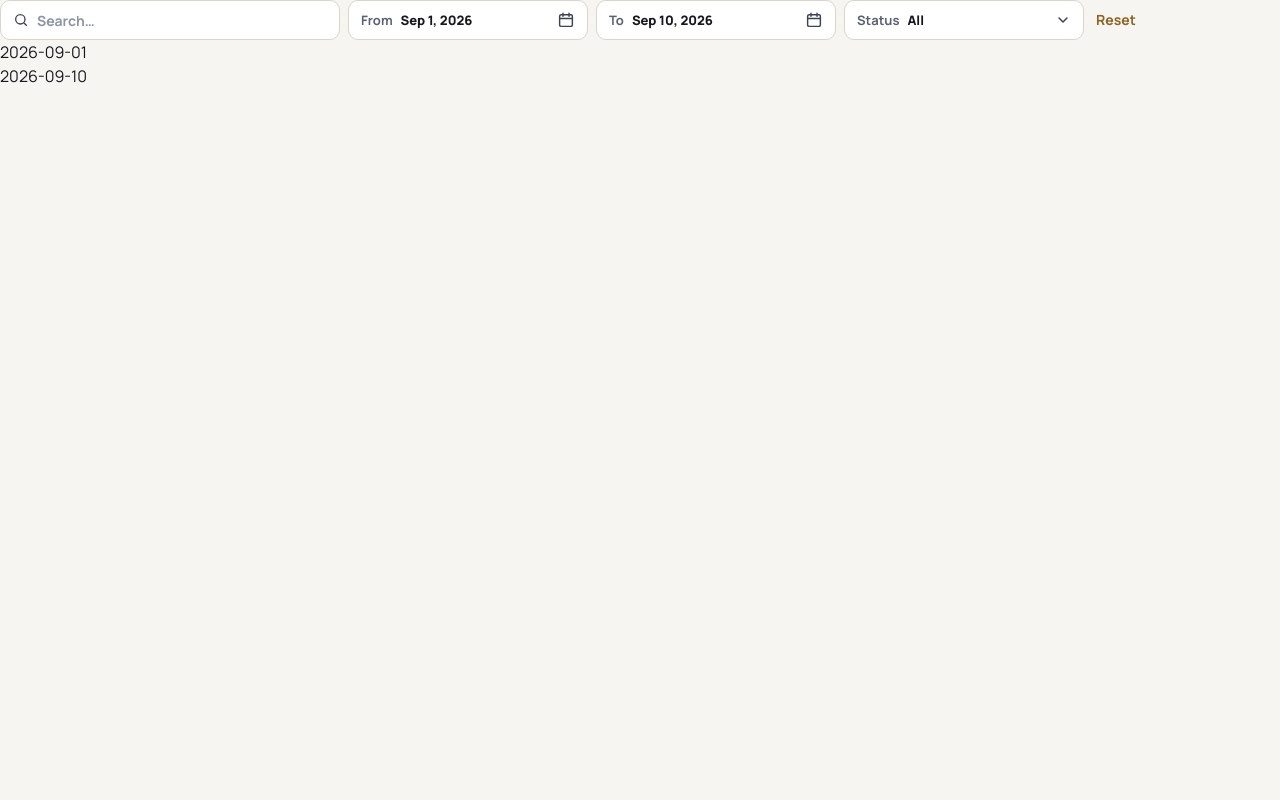
FilterBar date range › refuses a From date after To and sends nothing
Click the button "From Sep 1, 2026" at (468, 20), box [348, 0, 588, 40]
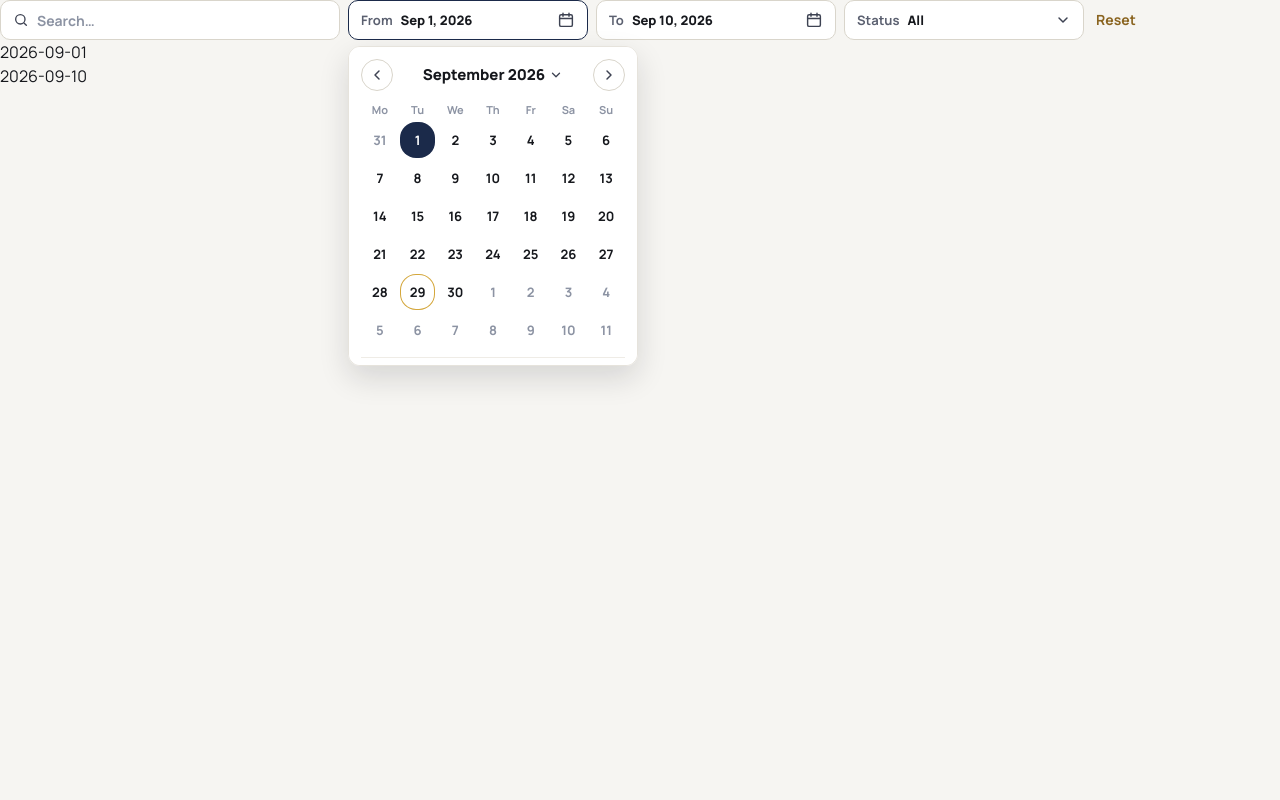
Click the button named "September 20, 2026" at (606, 216), box [588, 198, 624, 234]
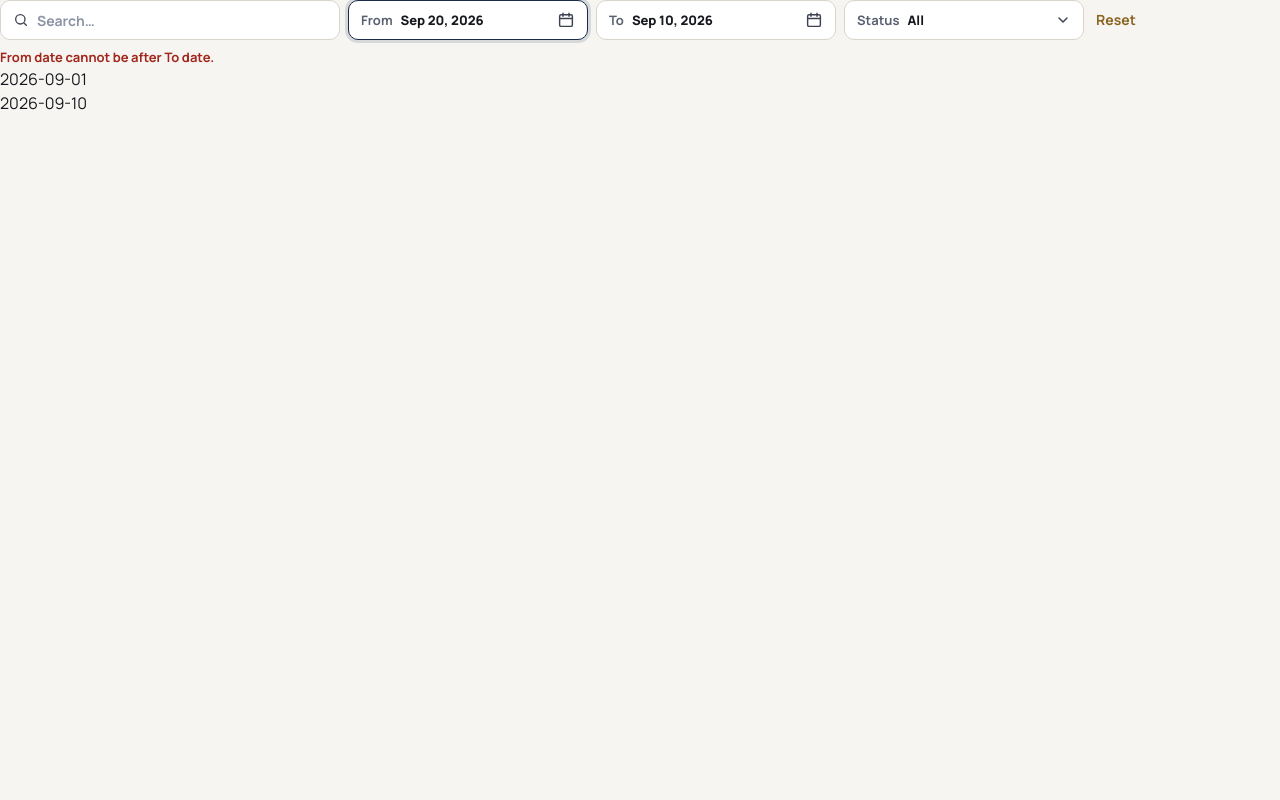
Now the message reads "From date cannot be after To date.", box [0, 48, 214, 66]
